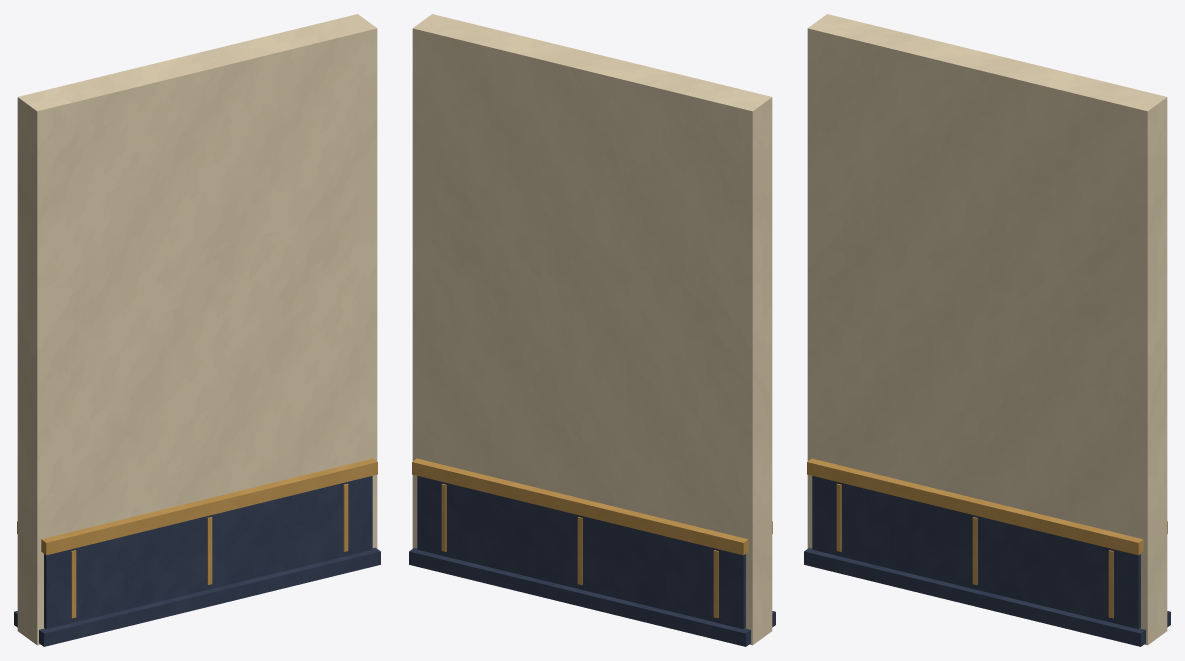
Rendered from SM_Theater_Wall_Exterior4.fbx.
3 views of the same model, side by side, from view 1: azimuth 30°, elevation 25°; view 2: azimuth 150°, elevation 25°; view 3: azimuth 330°, elevation 25° (orthographic).
Parts seen in each view (by area): view 1: SM_Theater_Wall_Exterior4_LOD0; view 2: SM_Theater_Wall_Exterior4_LOD0; view 3: SM_Theater_Wall_Exterior4_LOD0.
Part boxes in pixels (x1=…): SM_Theater_Wall_Exterior4_LOD0: x1=14, y1=14, x2=380, y2=646; SM_Theater_Wall_Exterior4_LOD0: x1=409, y1=14, x2=775, y2=646; SM_Theater_Wall_Exterior4_LOD0: x1=804, y1=14, x2=1170, y2=646.
Size of what is drawn, in the model's own units: 4 by 6 by 0.61.
